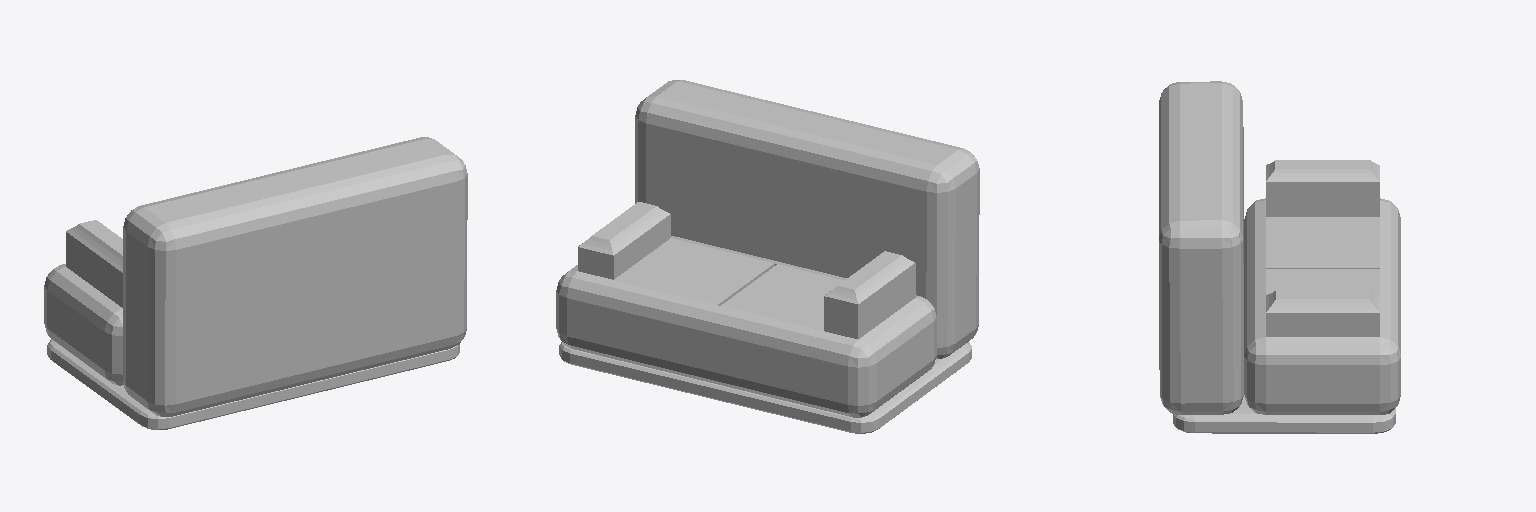
File: sofa.obj
3 views of the same model, side by side, from view 1: azimuth 30°, elevation 25°; view 2: azimuth 150°, elevation 25°; view 3: azimuth 270°, elevation 25° (orthographic).
Visible parts, largest first — view 1: sofa3; view 2: sofa3; view 3: sofa3.
Boxes of the visible parts, <box> form: sofa3: <box>44,137,467,429</box>; sofa3: <box>556,80,979,433</box>; sofa3: <box>1159,81,1400,433</box>.
Size of the model in its own units: 4.63 by 2.9 by 3.07.